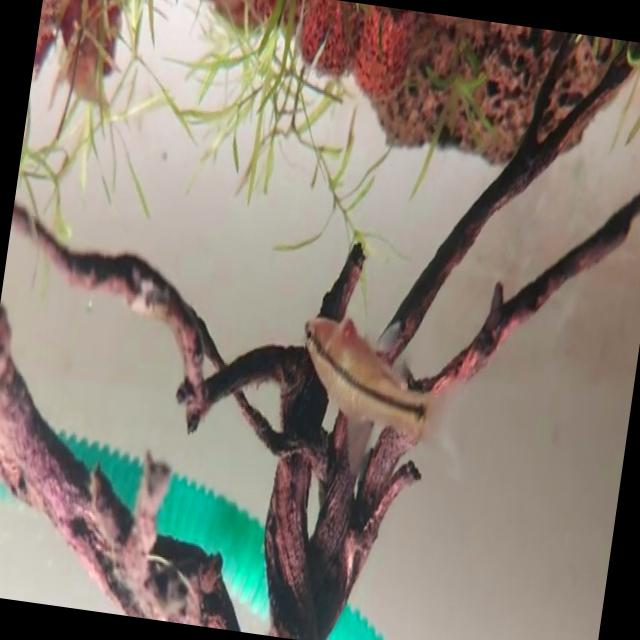Cakil Baligi: (282, 304, 468, 482)
